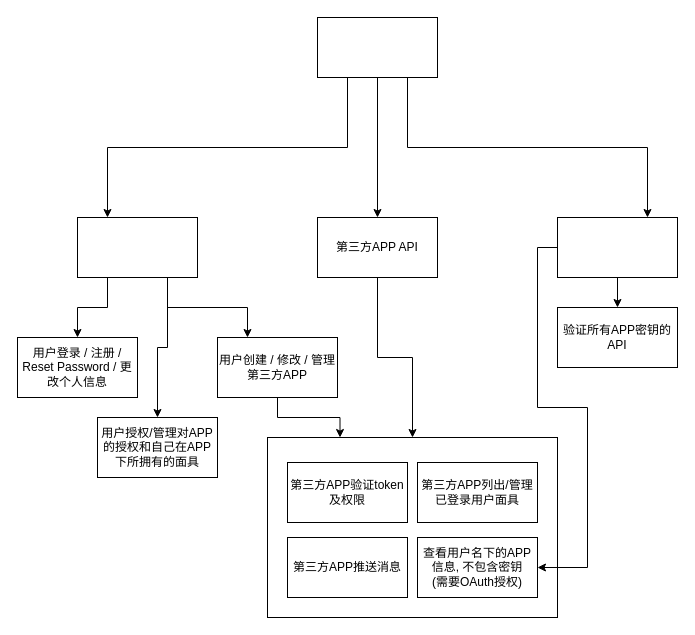
Some shapes in this 695 by 635 pixel diagram are drawn without their labels. Each missing label, with the box of its shape:
API: (316, 16, 438, 78)
前端用API: (76, 216, 198, 278)
官方应用API: (556, 216, 678, 278)
